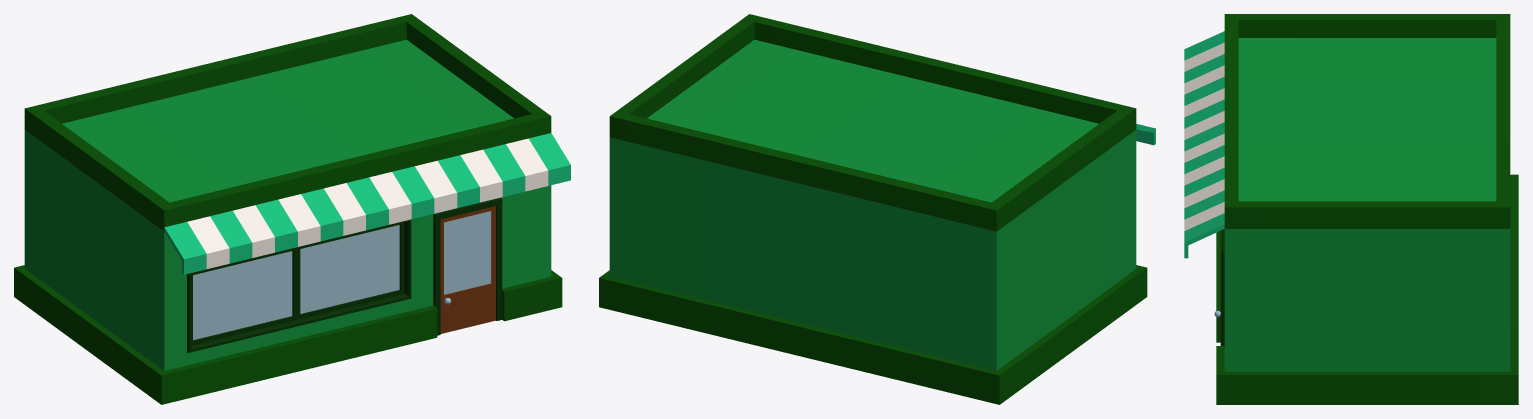
Rendered from Env_CommercialBuilding_04.fbx.
The picture shows the model from 3 angles, left to right: view 1: azimuth 30°, elevation 25°; view 2: azimuth 150°, elevation 25°; view 3: azimuth 270°, elevation 25°; orthographic projection. The views are drawn at different scales.
Visible parts, largest first — view 1: Env_CommercialBuilding_04; view 2: Env_CommercialBuilding_04; view 3: Env_CommercialBuilding_04.
Boxes of the visible parts, <box> form: Env_CommercialBuilding_04: <box>14,14,570,404</box>; Env_CommercialBuilding_04: <box>599,14,1155,404</box>; Env_CommercialBuilding_04: <box>1184,14,1518,404</box>.
Size of the model in its own units: 994 by 450 by 701.
Materials: 1 (1 with a texture image).
